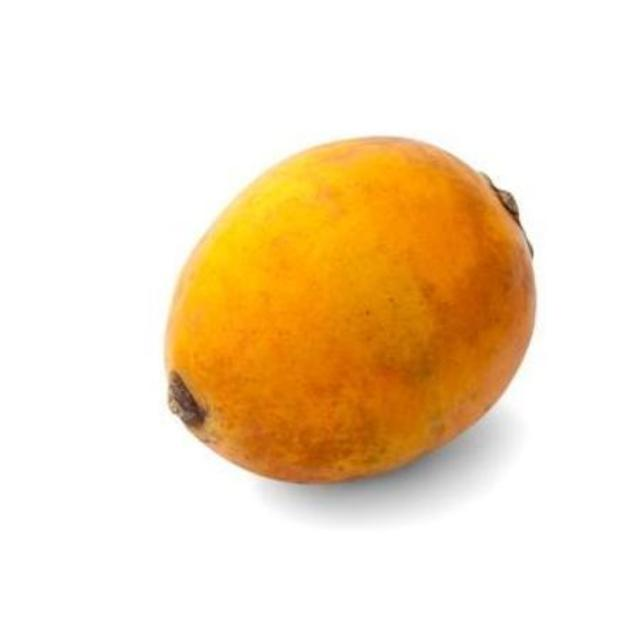good: (165, 137, 539, 487)
